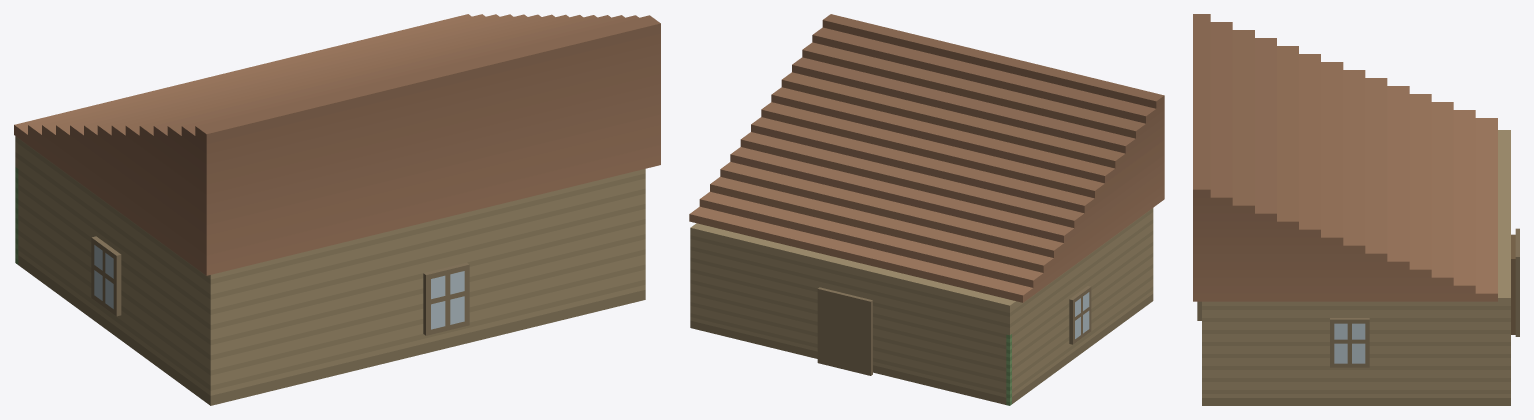
File: cocina_comunal_01.glb
The picture shows the model from 3 angles, left to right: view 1: azimuth 30°, elevation 25°; view 2: azimuth 150°, elevation 25°; view 3: azimuth 270°, elevation 25°; orthographic projection. The views are drawn at different scales.
Parts seen in each view (by area): view 1: cocina_comunal_01; view 2: cocina_comunal_01; view 3: cocina_comunal_01.
Part boxes in pixels (bbox=[...]): cocina_comunal_01: bbox=[14, 14, 660, 405]; cocina_comunal_01: bbox=[689, 14, 1164, 405]; cocina_comunal_01: bbox=[1193, 14, 1519, 405].
Size of the model in its own units: 9.4 by 5.5 by 7.4.
